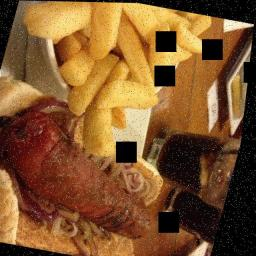hotdog: (0, 112, 104, 206), (40, 163, 143, 228), (61, 190, 167, 247)
